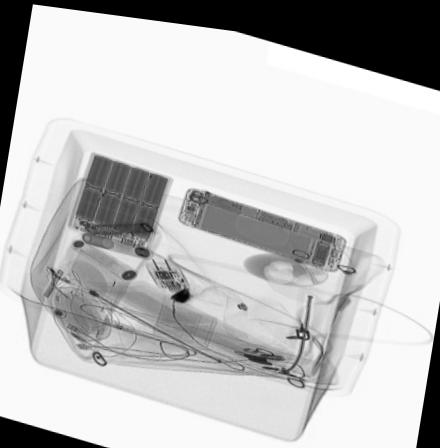Powerbank: (68, 151, 171, 246)
